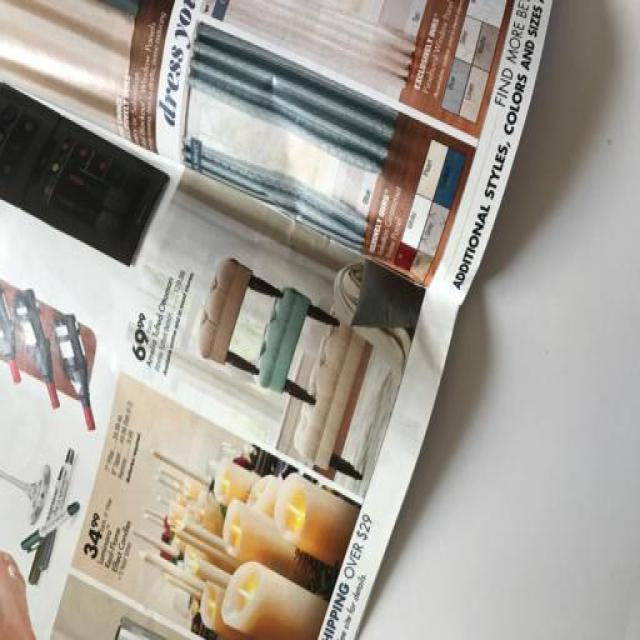paper: (1, 1, 552, 636)
